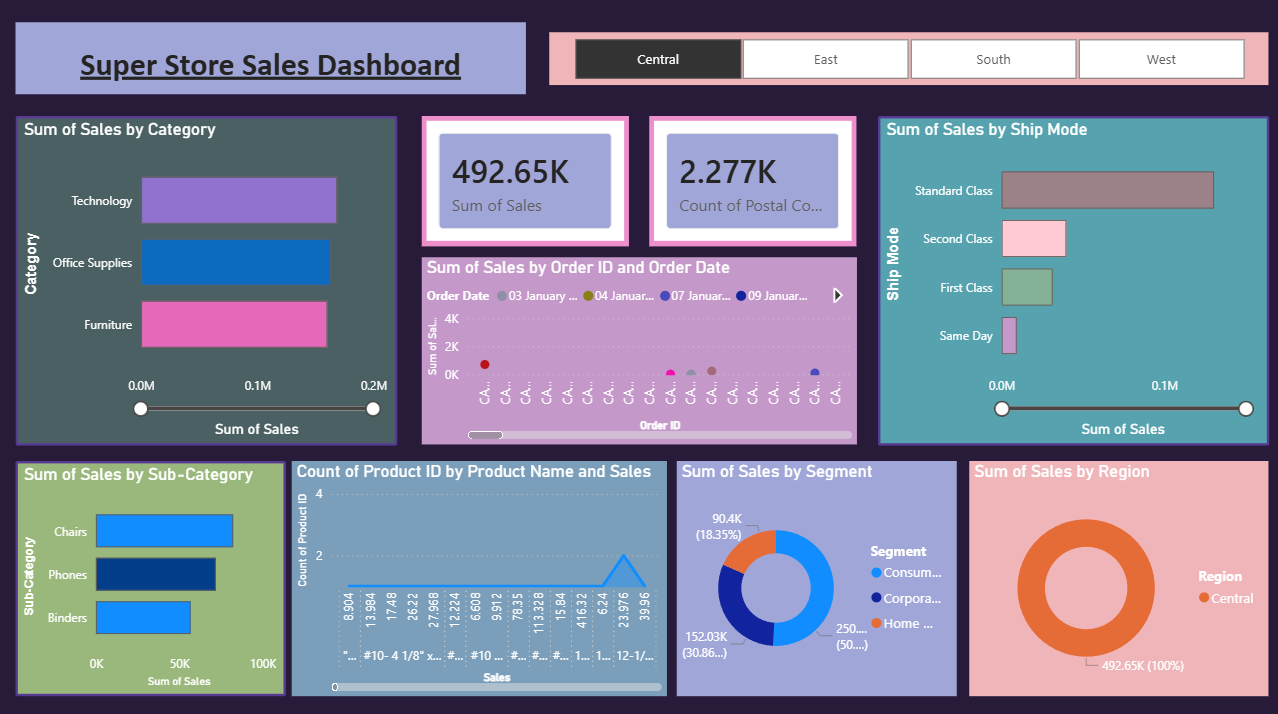

What the dashboard file says about the page in this screenshot:
{"tool":"powerbi","page":{"name":"Page 1","canvas":[1280,720],"ordinal":0},"visuals":[{"type":"clusteredBarChart","fields":{"Category":["train.Category"],"Y":["Sum(train.Sales)"]},"box":[16.9,119.4,381.2,329.4],"z":0},{"type":"clusteredBarChart","fields":{"Category":["train.Sub-Category"],"Y":["Sum(train.Sales)"]},"box":[16.9,464.5,270.2,235.3],"z":1000},{"type":"clusteredBarChart","fields":{"Category":["train.Ship Mode"],"Y":["Sum(train.Sales)"]},"box":[879.5,119.4,390.9,329.4],"z":2000},{"type":"stackedAreaChart","fields":{"Y":["Sum(train.Sales)"],"Series":["train.Order Date"],"Category":["train.Order ID"]},"box":[423.5,261.8,435.5,187],"z":3000},{"type":"stackedAreaChart","fields":{"Category":["train.Product Name","train.Sales"],"Y":["CountNonNull(train.Product ID)"]},"box":[294.4,464.5,375.2,235.3],"z":4000},{"type":"donutChart","fields":{"Category":["train.Segment"],"Y":["Sum(train.Sales)"]},"box":[679.2,464.5,279.9,235.3],"z":5000},{"type":"donutChart","fields":{"Category":["train.Region"],"Y":["Sum(train.Sales)"]},"box":[971.2,464.5,299.2,235.3],"z":6000},{"type":"slicer","fields":{"Values":["train.Region"]},"box":[551.3,36.2,719,53.1],"z":7000},{"type":"textbox","box":[16.9,26.5,510.3,72.4],"z":8000},{"type":"cardVisual","fields":{"Data":["Sum(train.Sales)"]},"box":[423.5,119.4,207.5,130.3],"z":9000},{"type":"cardVisual","fields":{"Data":["CountNonNull(train.Postal Code)"]},"box":[651.5,119.4,207.5,130.3],"z":10000}]}

Visuals, with their boxes in screenshot pixels (x1, y1, x2, y2), scaled from the page's 1280x720 canvas onto the 1278x714 screenshot:
clusteredBarChart - train.Category x Sum(train.Sales): bbox=(17, 118, 397, 445)
clusteredBarChart - train.Sub-Category x Sum(train.Sales): bbox=(17, 461, 287, 694)
clusteredBarChart - train.Ship Mode x Sum(train.Sales): bbox=(878, 118, 1268, 445)
stackedAreaChart - Sum(train.Sales) x train.Order Date: bbox=(423, 260, 858, 445)
stackedAreaChart - train.Product Name x train.Sales: bbox=(294, 461, 669, 694)
donutChart - train.Segment x Sum(train.Sales): bbox=(678, 461, 958, 694)
donutChart - train.Region x Sum(train.Sales): bbox=(970, 461, 1268, 694)
slicer - train.Region: bbox=(550, 36, 1268, 89)
textbox: bbox=(17, 26, 526, 98)
cardVisual - Sum(train.Sales): bbox=(423, 118, 630, 248)
cardVisual - CountNonNull(train.Postal Code): bbox=(650, 118, 858, 248)
